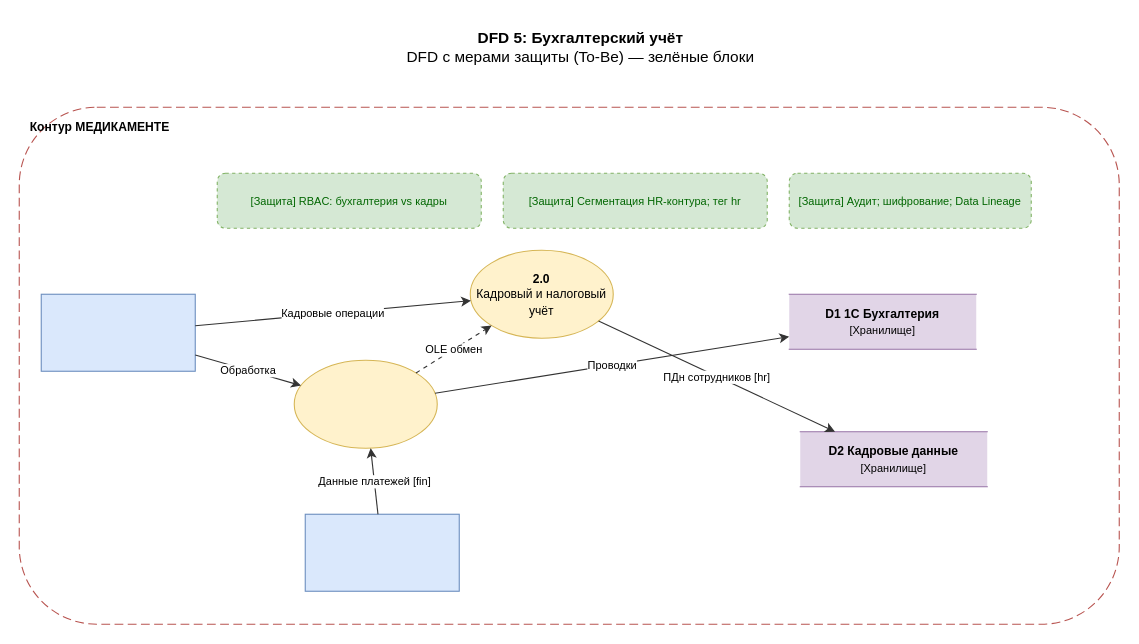
The diagram is 1139 pixels wide and 644 high, and some of its shapes have lost their labels. The shapes that lost their labels are listed below. From the top down, each one's box as (x1, y1, x2, y2) in pixels, then its label:
(40, 293, 195, 371): Бухгалтер [Внешняя сущность]
(293, 359, 437, 448): 1.0 Процессинг платежей
(304, 513, 459, 591): ККМ/1С [Внешняя сущность]
